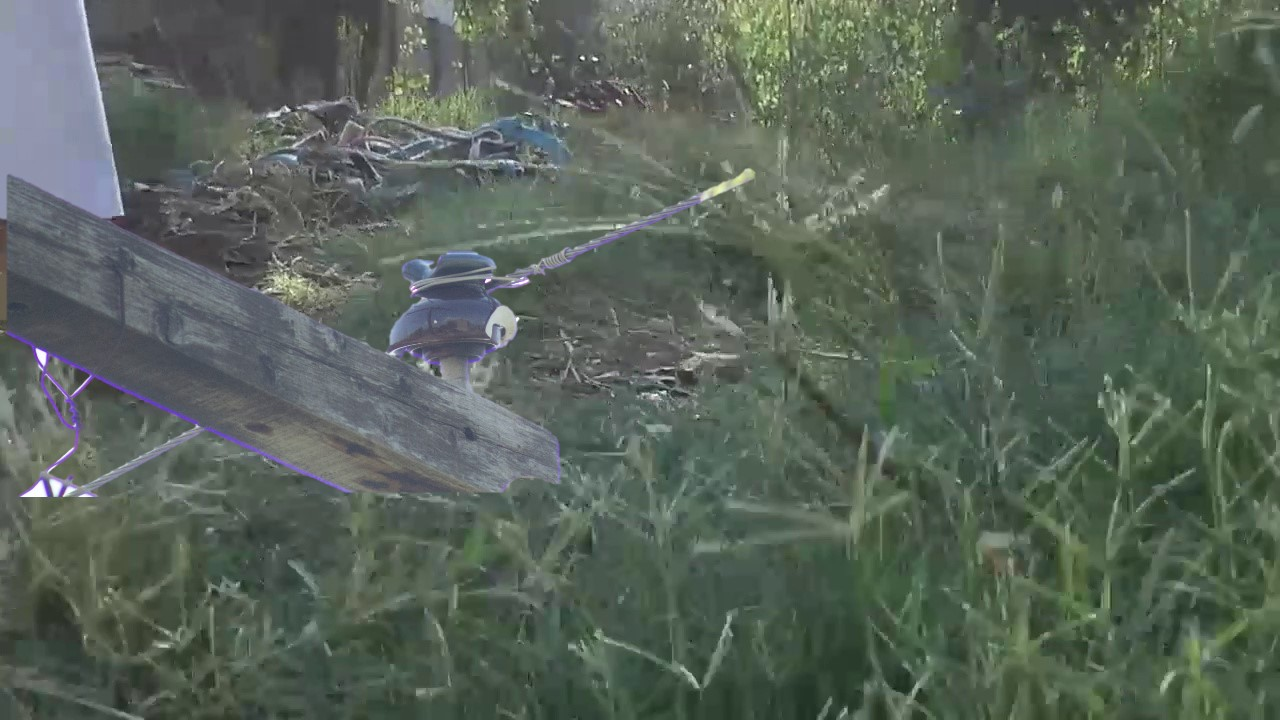defect_pin: (384, 245, 527, 360)
